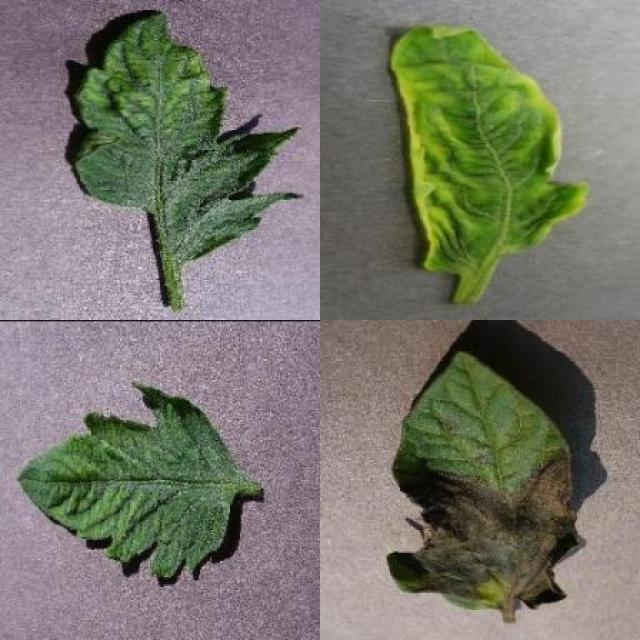Late Blight: (384, 350, 587, 610)
Mosaic Virus: (71, 7, 306, 266), (17, 380, 244, 580)
Yellow Leaf Curl Virus: (390, 20, 590, 273)
